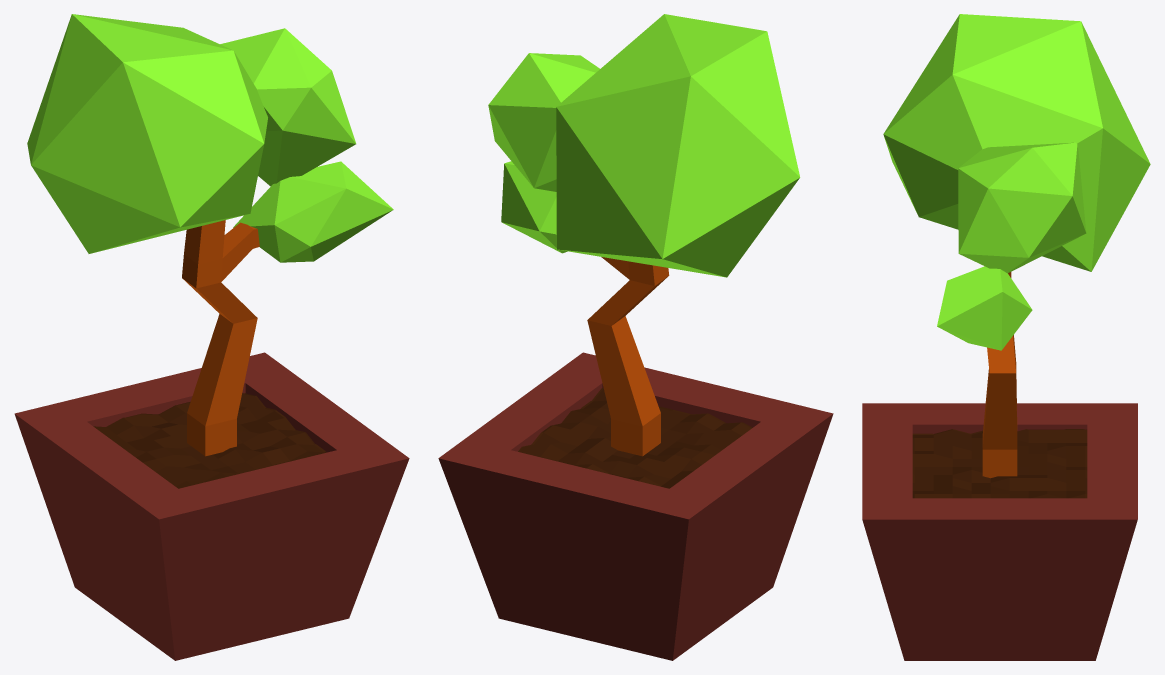
File: PottedPlant.fbx
3 views of the same model, side by side, from view 1: azimuth 30°, elevation 25°; view 2: azimuth 150°, elevation 25°; view 3: azimuth 270°, elevation 25° (orthographic). The views are drawn at different scales.
Parts seen in each view (by area): view 1: Pot, Leaf, Leaf.001, Branch, Dirt, Leaf.002; view 2: Pot, Leaf, Dirt, Branch, Leaf.001, Leaf.002; view 3: Pot, Leaf, Leaf.001, Dirt, Leaf.002, Branch.
Boxes of the visible parts, bbox=[...] form: Pot: bbox=[14, 352, 409, 660]; Leaf: bbox=[27, 14, 267, 253]; Leaf.001: bbox=[220, 28, 356, 186]; Branch: bbox=[182, 220, 259, 456]; Dirt: bbox=[93, 393, 326, 488]; Leaf.002: bbox=[233, 161, 393, 262]; Pot: bbox=[438, 352, 833, 660]; Leaf: bbox=[556, 14, 800, 277]; Dirt: bbox=[518, 388, 752, 488]; Branch: bbox=[587, 257, 669, 456]; Leaf.001: bbox=[488, 53, 599, 191]; Leaf.002: bbox=[501, 161, 567, 253]; Pot: bbox=[862, 403, 1137, 660]; Leaf: bbox=[883, 14, 1150, 271]; Leaf.001: bbox=[958, 142, 1086, 273]; Dirt: bbox=[912, 429, 1087, 498]; Leaf.002: bbox=[937, 266, 1032, 350]; Branch: bbox=[982, 272, 1017, 478].
Bounding box in the file's own units: 84.99 × 147 × 69.33.
